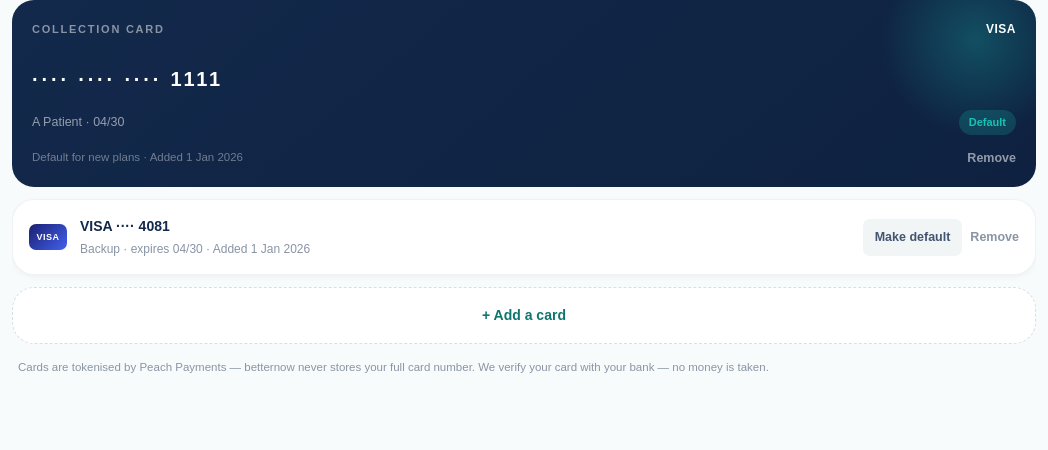
Scenario: RULE 1 — default is for new plans only › "Make default" flips immediately (no consequence dialog) and notes new-plans scope
The image size is (1048, 450).
Step 1. Click the button "Make default" → (912, 237), box 863,219 -> 962,256
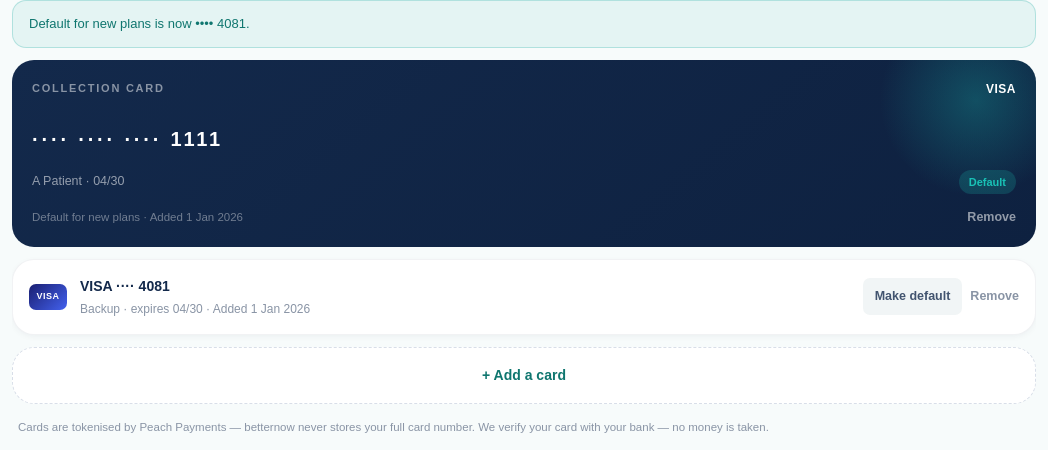
Now the text "Default for new plans is now •••• 4081." is shown, box 12,0 -> 1036,48
